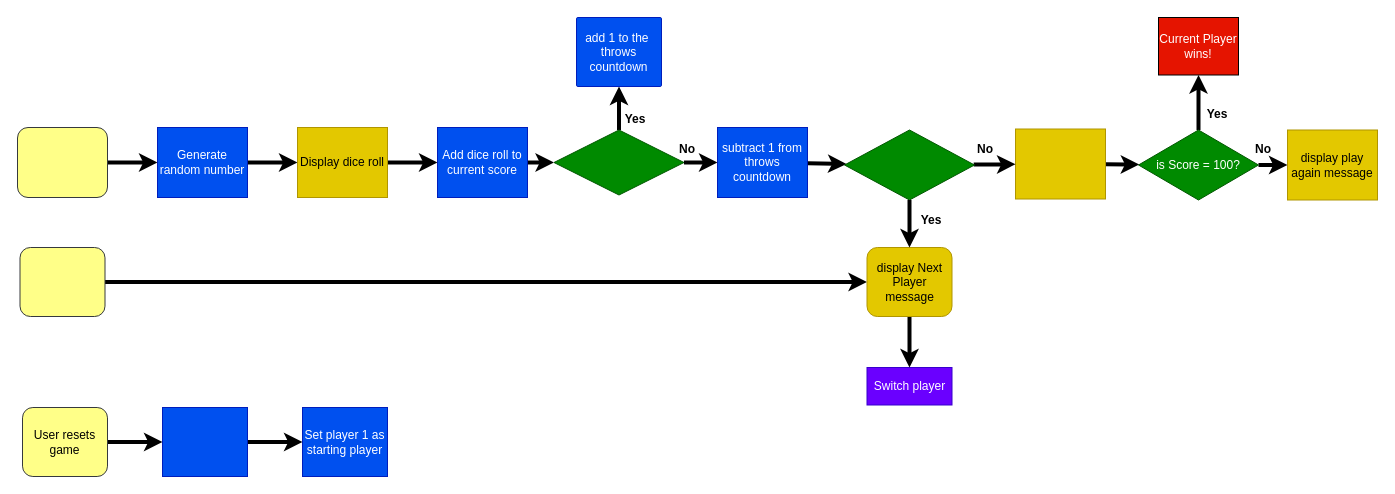
This 1395x494 diagram has some shape labels left out. Each missing label, with the box of its shape:
display new score: (1014, 128, 1106, 199)
is the dice number = 6?: (553, 129, 684, 195)
is the throws countdown = 0?: (844, 129, 974, 200)
Player rolls dice: (16, 126, 108, 198)
Sets all scores to 0: (162, 406, 248, 476)
User passes: (19, 246, 105, 316)
